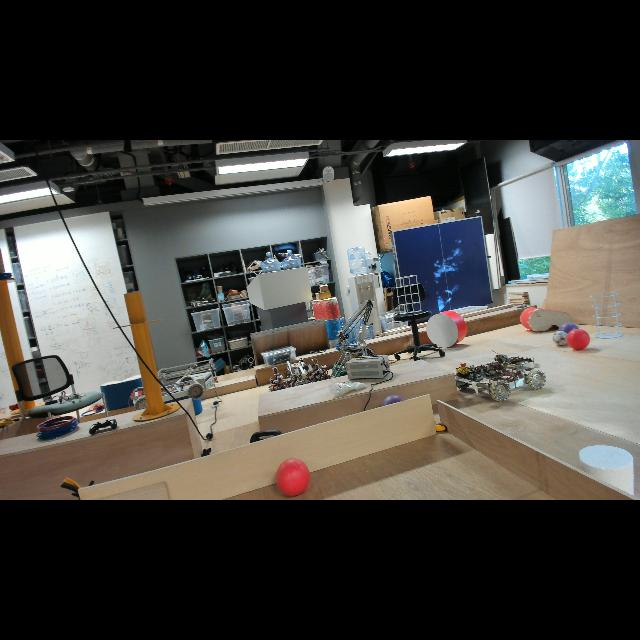P: (558, 322, 580, 343), (382, 394, 402, 410)
R: (276, 458, 310, 498), (566, 329, 590, 351)
S: (590, 291, 624, 339), (393, 274, 423, 314)
